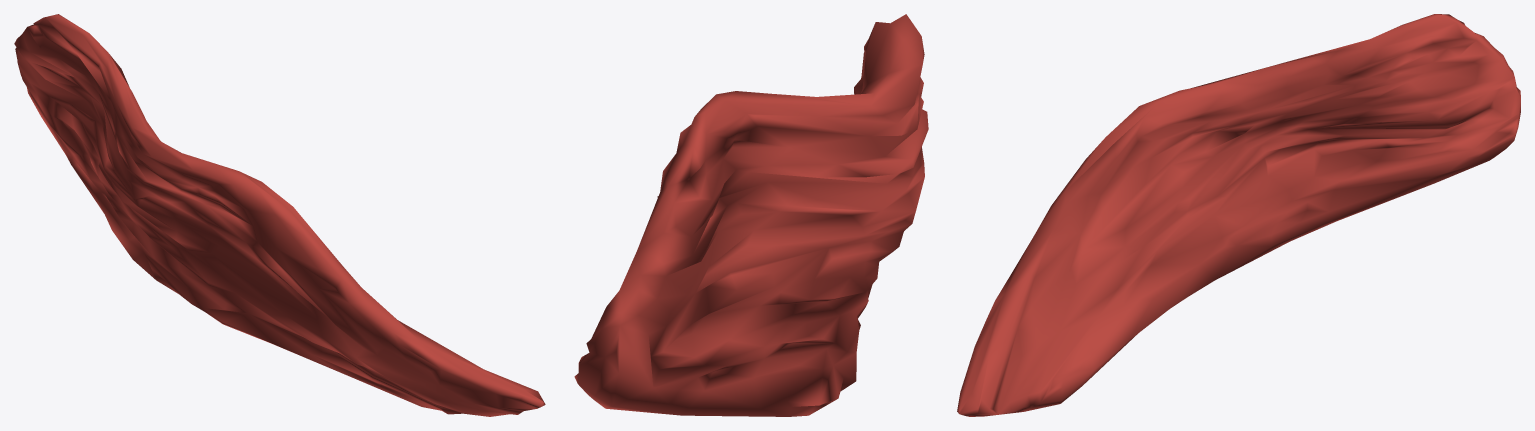
File: musculos-oblique-part-of-cricothyroid-muscle-r.glb
3 renders of one model, left to right at view 1: azimuth 30°, elevation 25°; view 2: azimuth 150°, elevation 25°; view 3: azimuth 270°, elevation 25°, orthographic. The views are drawn at different scales.
Parts seen in each view (by area): view 1: Oblique part of cricothyroid muscle.r; view 2: Oblique part of cricothyroid muscle.r; view 3: Oblique part of cricothyroid muscle.r.
Part boxes in pixels (x1=…): Oblique part of cricothyroid muscle.r: x1=14, y1=14, x2=545, y2=416; Oblique part of cricothyroid muscle.r: x1=574, y1=14, x2=928, y2=416; Oblique part of cricothyroid muscle.r: x1=957, y1=14, x2=1520, y2=416.
Bounding box in the file's own units: 0.00884 × 0.00928 × 0.0158.
